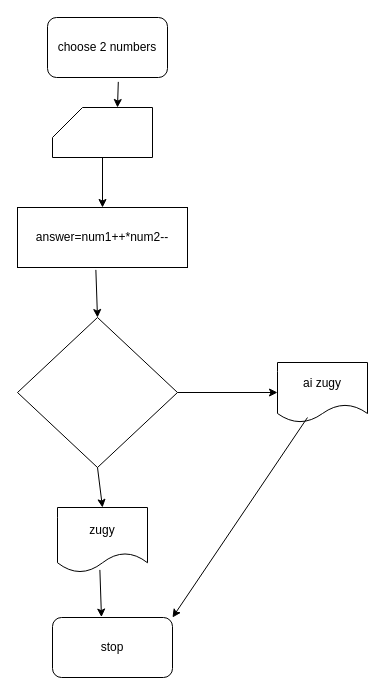
Image size: 385x695. Some labels were removed from this diagram. Each missing label, with the box of its shape:
answer%2==0: (16, 316, 178, 468)
num1 num2: (52, 106, 152, 158)
